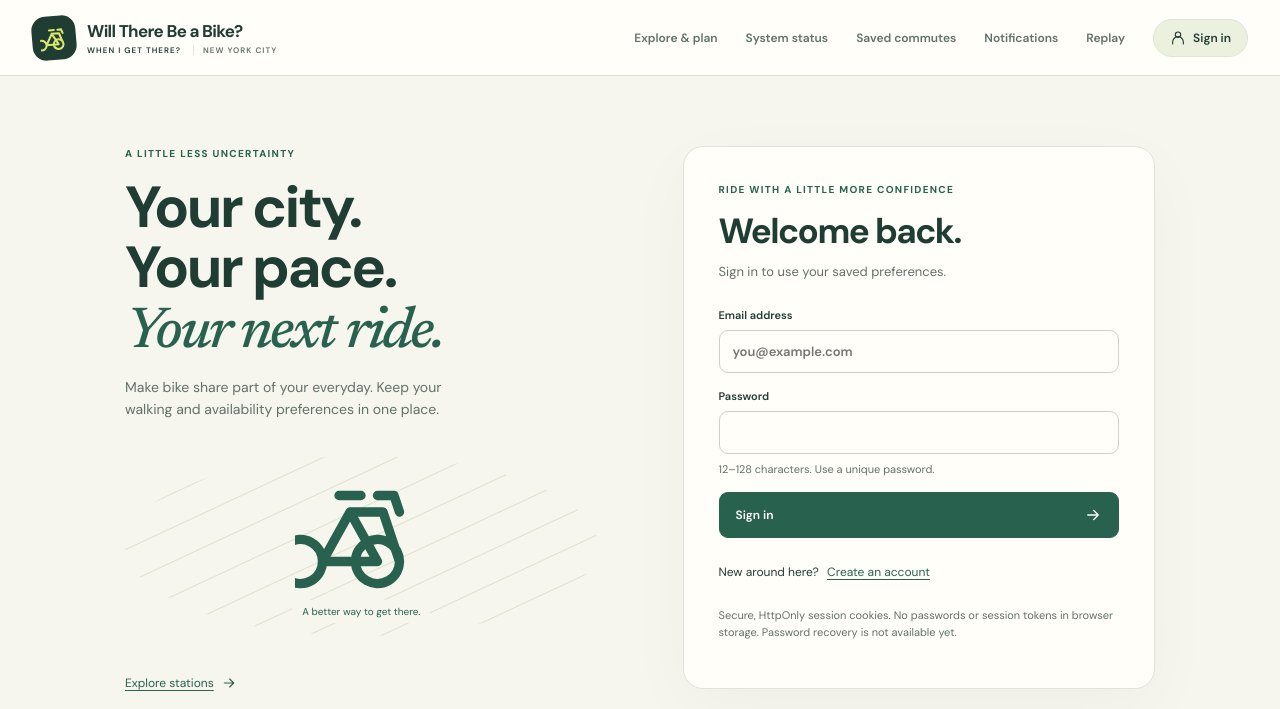
Test case: presents login failures without exposing passwords
Type "rider@example.test" into the field labelled "Email address" at (919, 352), box [718,330,1119,373]
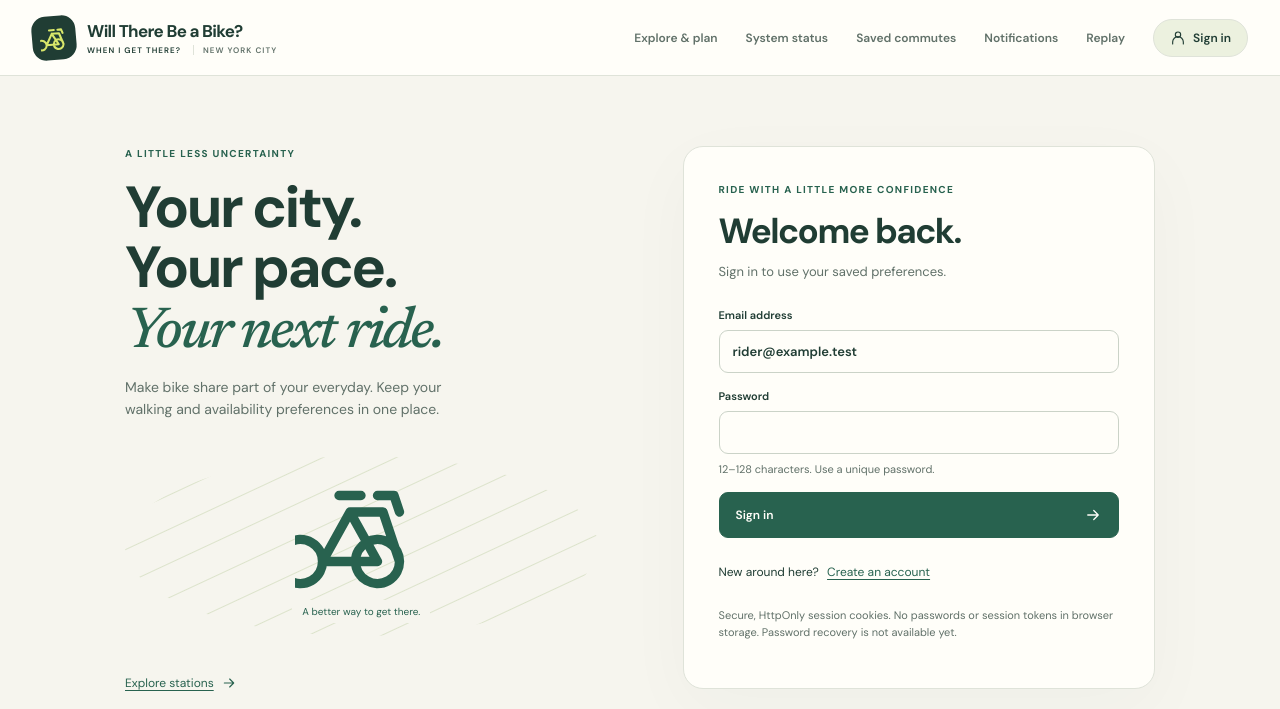
Type "test-only-password-123" into the password field labelled "Password" at (919, 432), box [718,411,1119,454]
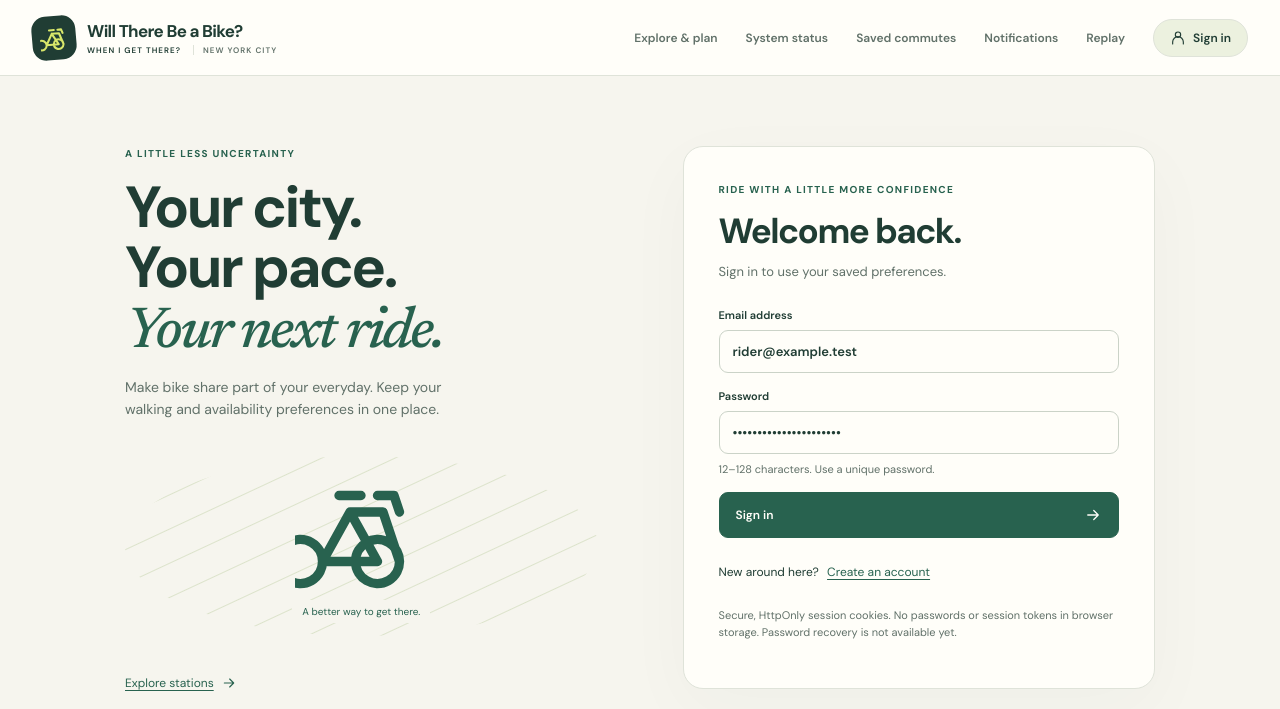
Click the button "Sign in" at (754, 515), box [718,492,1119,538]
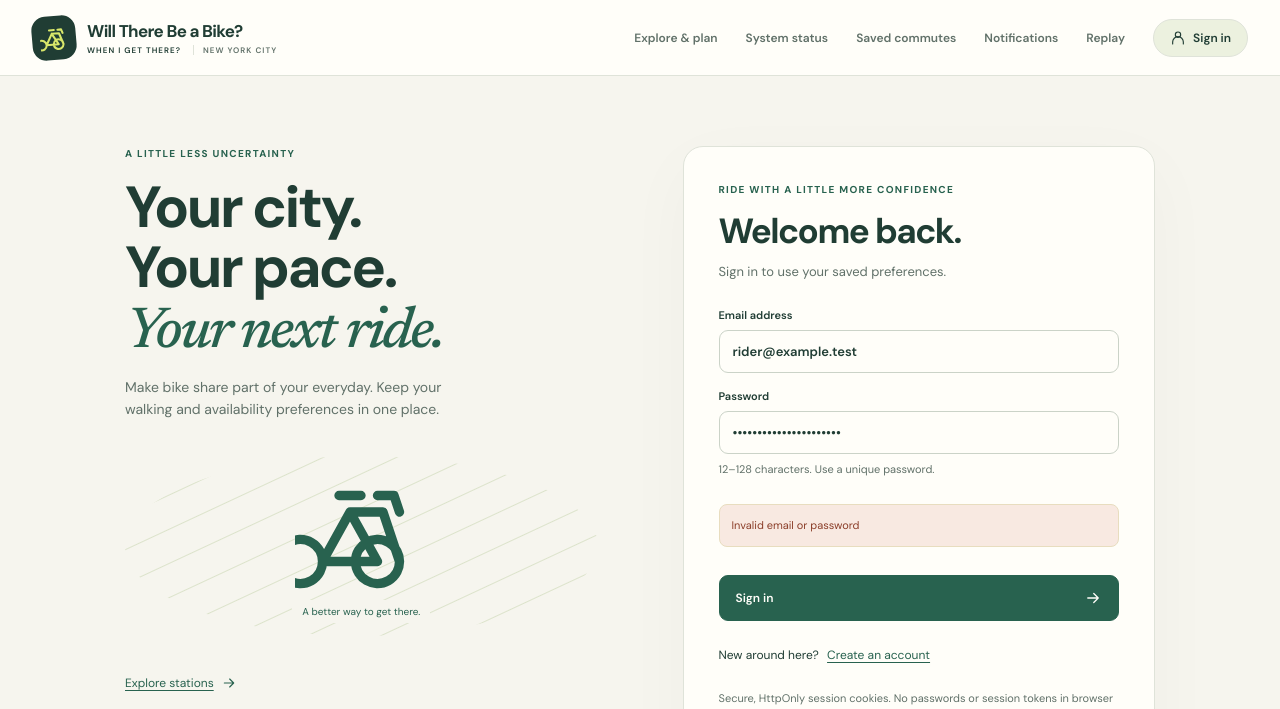
Check: the message does not show "test-only-password-123", box [718,504,1119,547]
Check: the message reads "Invalid email or password", box [732,518,860,532]
